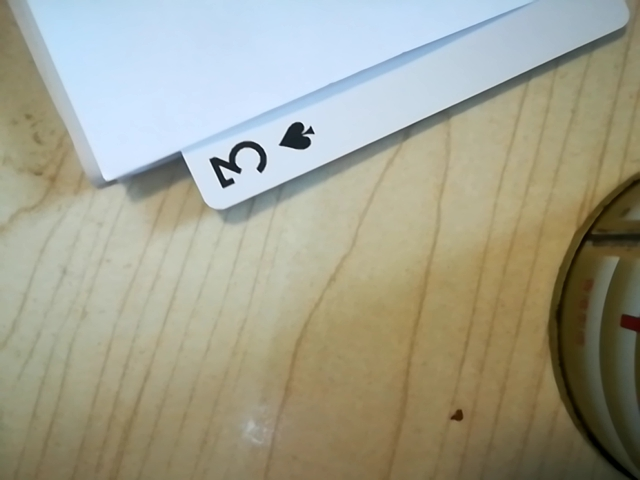ht 3: (194, 109, 325, 206)
